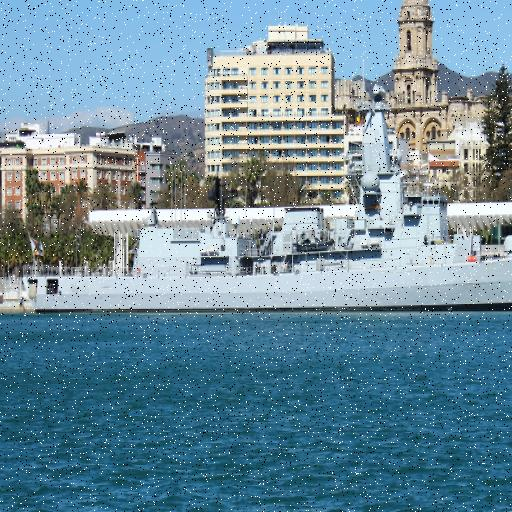Fragata: (19, 106, 512, 324)
